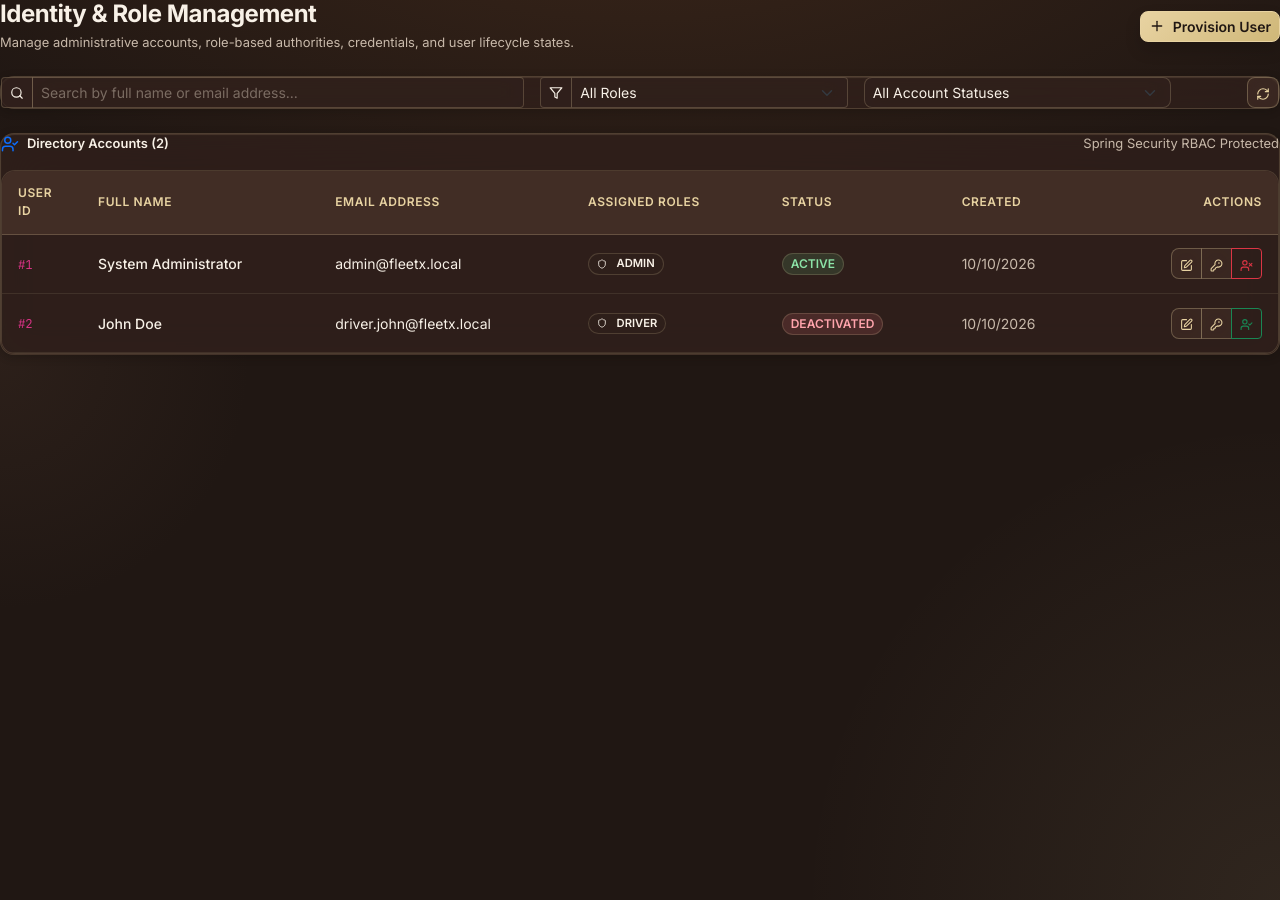
Test case: Identity & Admin Frontend Components › UsersPage › opens provision user modal on Provision User button click
This screenshot has width=1280, height=900.
Expected: the text "System Administrator" is shown, [82,235,319,294]
Click the button "Provision User" at (1210, 26), box [1140,11,1279,42]
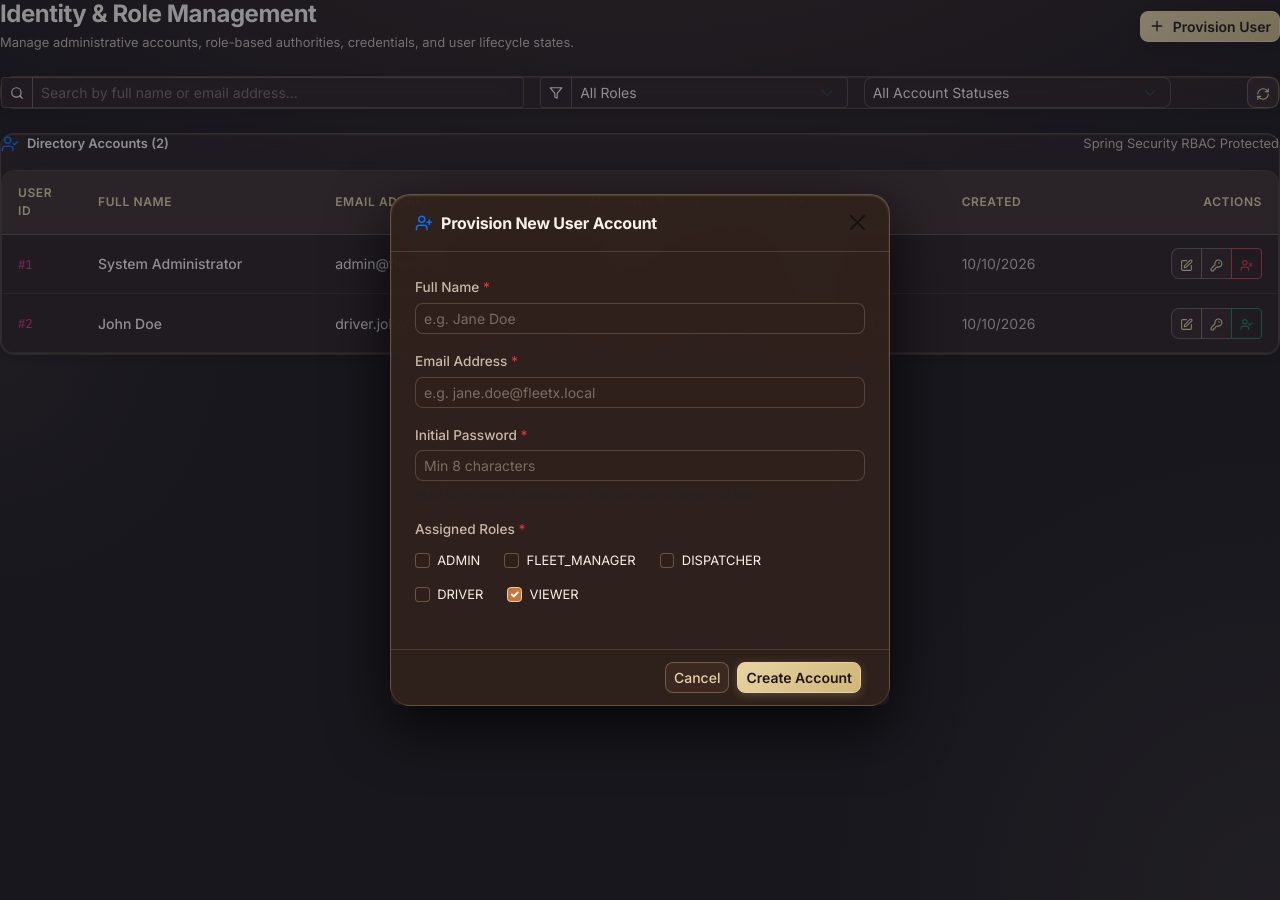
Now the heading "Provision New User Account" is shown, box [415,210,657,234]
Now the password field labelled "Initial Password *" is shown, box [415,450,865,482]
